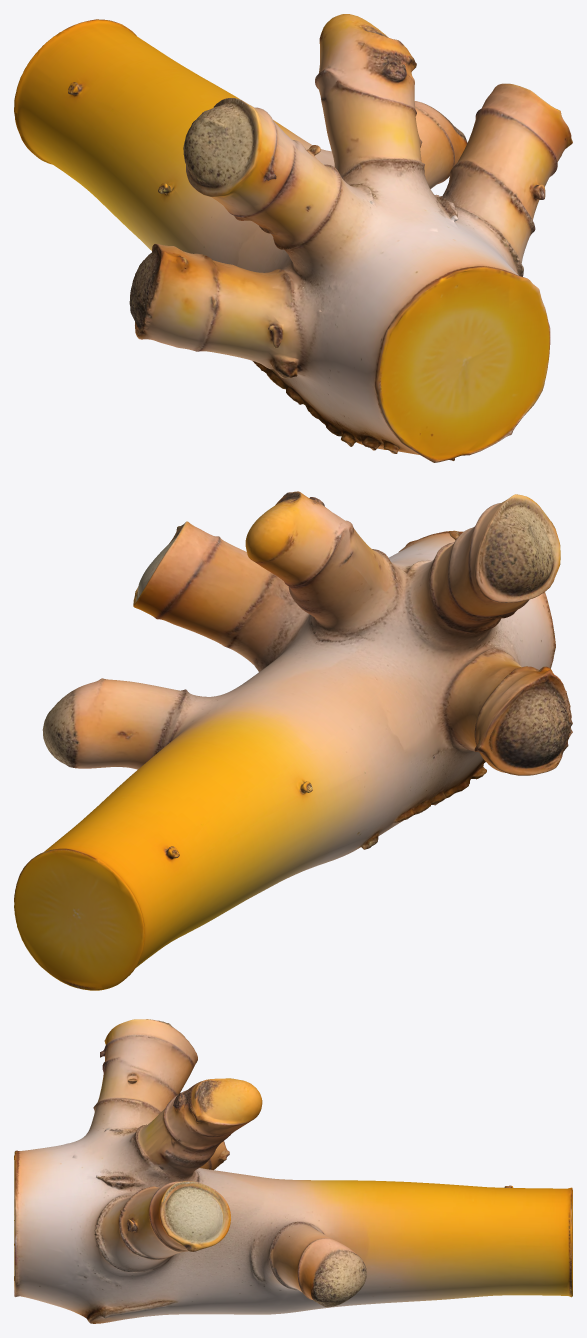
File: jianghuang.glb
The picture shows the model from 3 angles, top to bottom: view 1: azimuth 30°, elevation 25°; view 2: azimuth 150°, elevation 25°; view 3: azimuth 270°, elevation 25°; orthographic projection. The views are drawn at different scales.
Parts seen in each view (by area): view 1: node_0; view 2: node_0; view 3: node_0.
Part boxes in pixels (<box>): node_0: <box>14,14,572,462</box>; node_0: <box>14,491,572,990</box>; node_0: <box>14,1019,572,1323</box>.
Bounding box in the file's own units: 0.6987 × 0.5353 × 1.11.
Materials: 1 (1 with a texture image).
